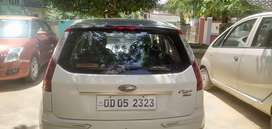OD052323: (97, 95, 156, 110)
